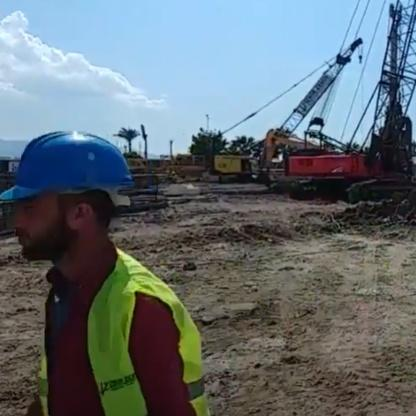helmet: (2, 125, 130, 287)
